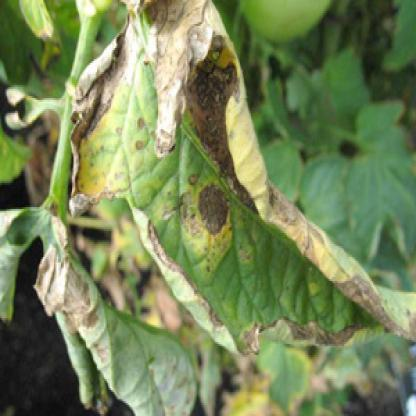Potato leaf late blight: (61, 2, 412, 355)
